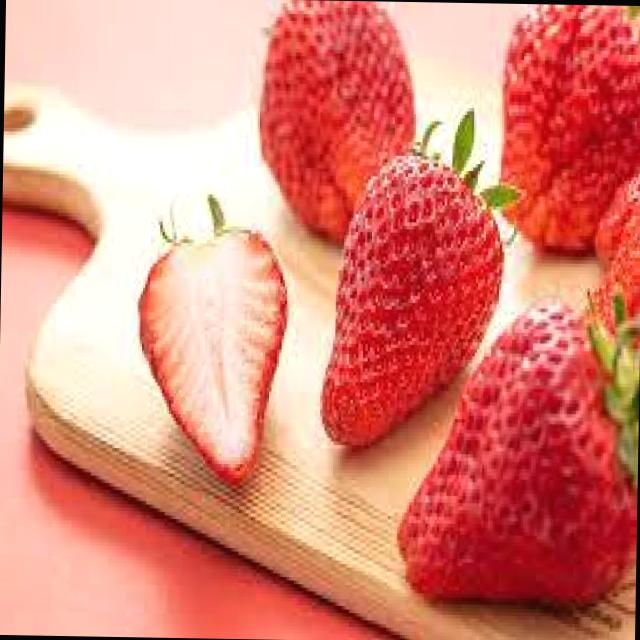strawberry: (389, 296, 640, 608), (320, 116, 506, 447), (134, 201, 289, 504), (485, 2, 640, 249), (251, 0, 415, 224)
